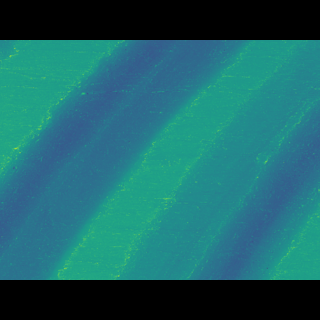Loch: (0, 68, 254, 250), (182, 110, 319, 251)
